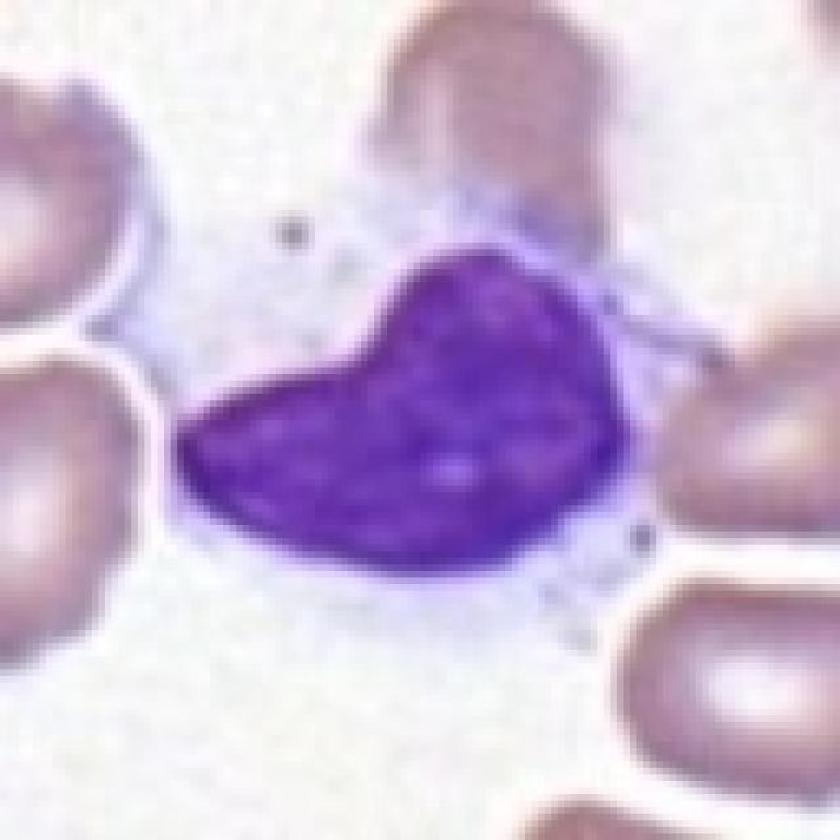lymphocyte: (137, 165, 721, 646)
